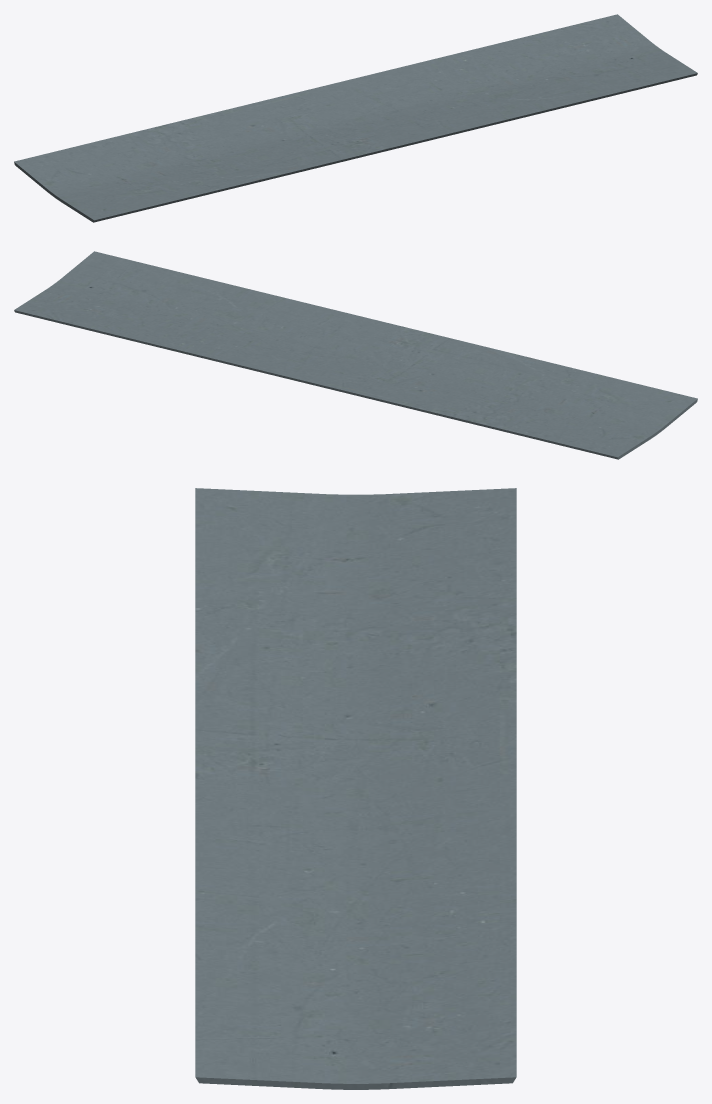
File: Trainstation_Roof.FBX
3 views of the same model, one above another, from view 1: azimuth 30°, elevation 25°; view 2: azimuth 150°, elevation 25°; view 3: azimuth 270°, elevation 25° (orthographic). The views are drawn at different scales.
Visible parts, largest first — view 1: Trainstation_Roof; view 2: Trainstation_Roof; view 3: Trainstation_Roof.
Part boxes in pixels (bbox=[...]): Trainstation_Roof: bbox=[14, 14, 697, 222]; Trainstation_Roof: bbox=[14, 251, 697, 459]; Trainstation_Roof: bbox=[195, 488, 516, 1089].
Size of the model in its own units: 4200 by 968 by 41.81.
